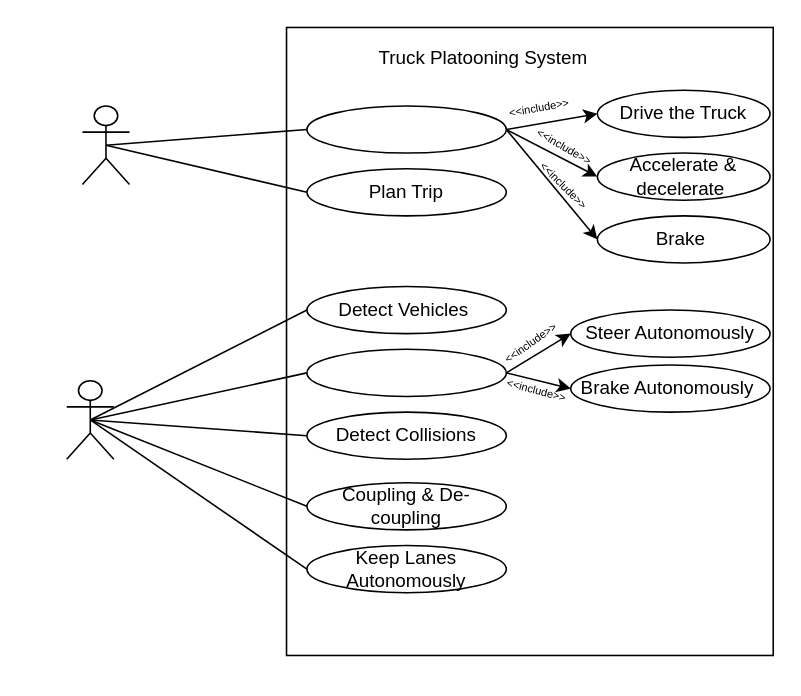
Image size: 801x696. Some labels were removed from this diagram. The shapes that lost their labels are listed below. From the top down, each one's centre as x and y in pixels, then its label:
At point (105, 144): "Head Truck Driver".
At point (405, 128): "Control Platoon".
At point (405, 372): "Drive Autonomously".
At point (89, 419): "Trailing Trucks".
